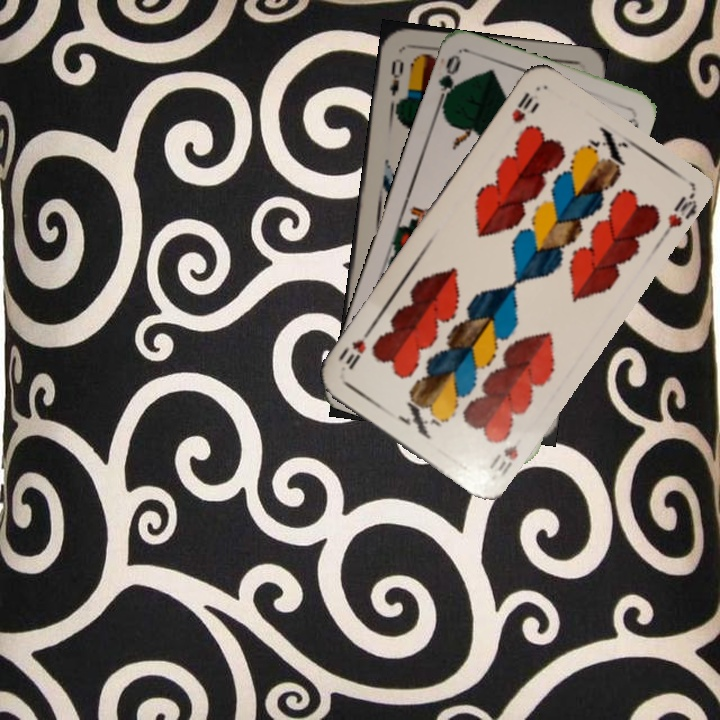EO: (386, 54, 407, 99)
GO: (432, 52, 464, 112)
H10: (485, 440, 522, 479), (507, 88, 542, 126)
